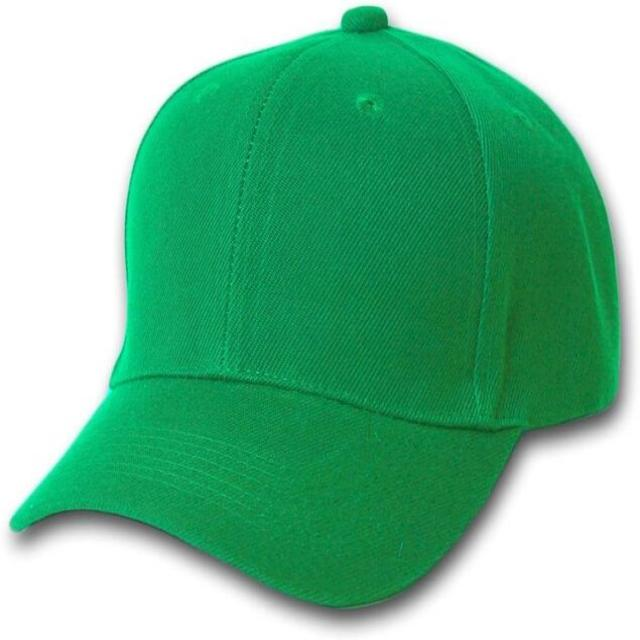Nonhelmet: (8, 4, 623, 612)
